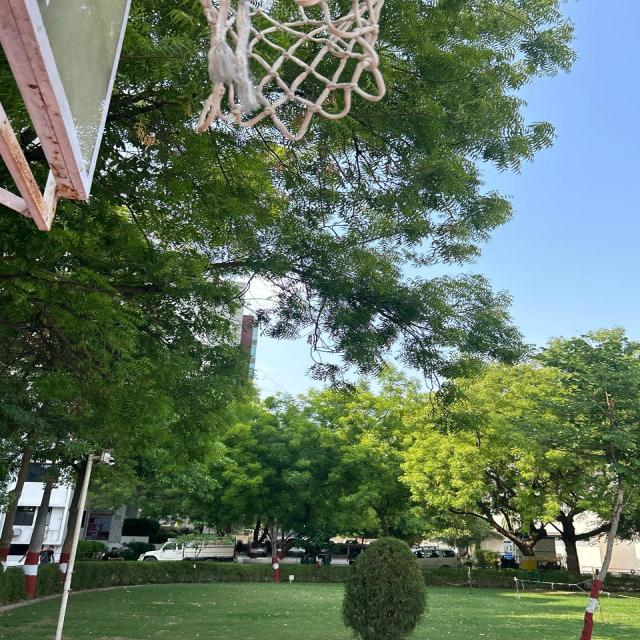hoop: (182, 0, 400, 146)
